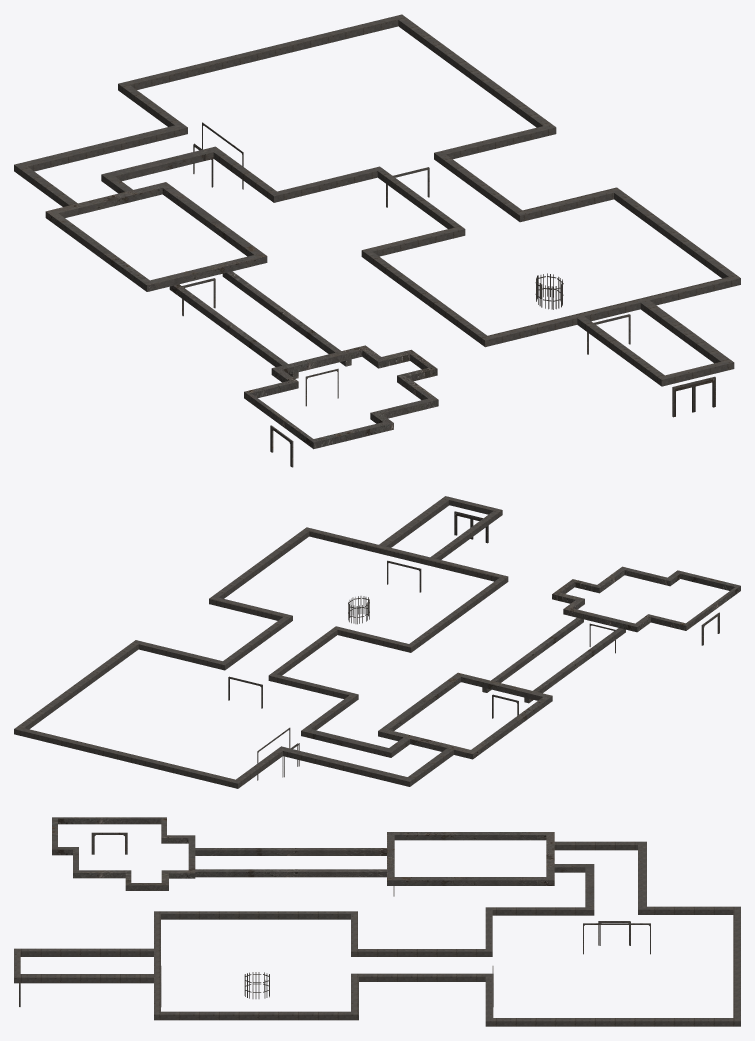
The model's file is techo_orilla.obj.
3 views of the same model, one above another, from view 1: azimuth 30°, elevation 25°; view 2: azimuth 150°, elevation 25°; view 3: azimuth 270°, elevation 25° (orthographic). The views are drawn at different scales.
Visible parts, largest first — view 1: Cube.123, Cube.122, Cube.119, Cube.124, Cube.120, Cube.121; view 2: Cube.123, Cube.119, Cube.122, Cube.124, Cube.121, Cube.120; view 3: Cube.123, Cube.122, Cube.119, Cube.120, Cube.121, Cube.124, Cube.164.
Boxes of the visible parts, x1,y1,x2,y2 form: Cube.123: (14, 14, 740, 386); Cube.122: (45, 182, 267, 291); Cube.119: (244, 345, 438, 449); Cube.124: (101, 146, 220, 193); Cube.120: (222, 271, 351, 366); Cube.121: (169, 284, 298, 378); Cube.123: (14, 496, 508, 788); Cube.119: (552, 566, 740, 632); Cube.122: (378, 672, 552, 759); Cube.124: (301, 727, 409, 757); Cube.121: (524, 628, 625, 703); Cube.120: (482, 618, 583, 692); Cube.123: (14, 841, 740, 1026); Cube.122: (387, 832, 554, 885); Cube.119: (52, 817, 195, 890); Cube.120: (195, 869, 386, 877); Cube.121: (195, 848, 386, 855); Cube.124: (554, 864, 594, 915); Cube.164: (244, 972, 269, 998).
Size of the model in its own units: 159 by 13 by 240.
